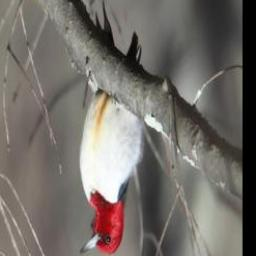Woodpecker: (76, 0, 146, 256)
